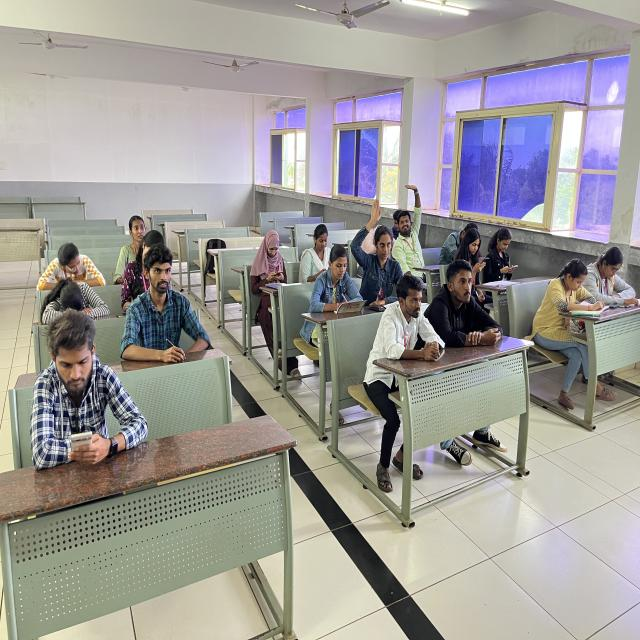Hand Rising: (354, 194, 406, 308), (396, 180, 432, 284)
Reading: (540, 252, 604, 342), (584, 242, 640, 312)
Sleeping: (36, 241, 110, 295), (36, 275, 112, 326)
Using Phone: (31, 309, 143, 489), (248, 227, 293, 315), (482, 224, 522, 288), (456, 226, 490, 289), (300, 220, 334, 282)
Writing: (125, 244, 211, 368), (311, 244, 368, 328)
